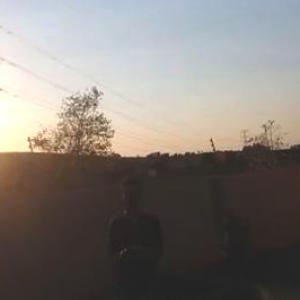follow: (106, 169, 173, 299)
